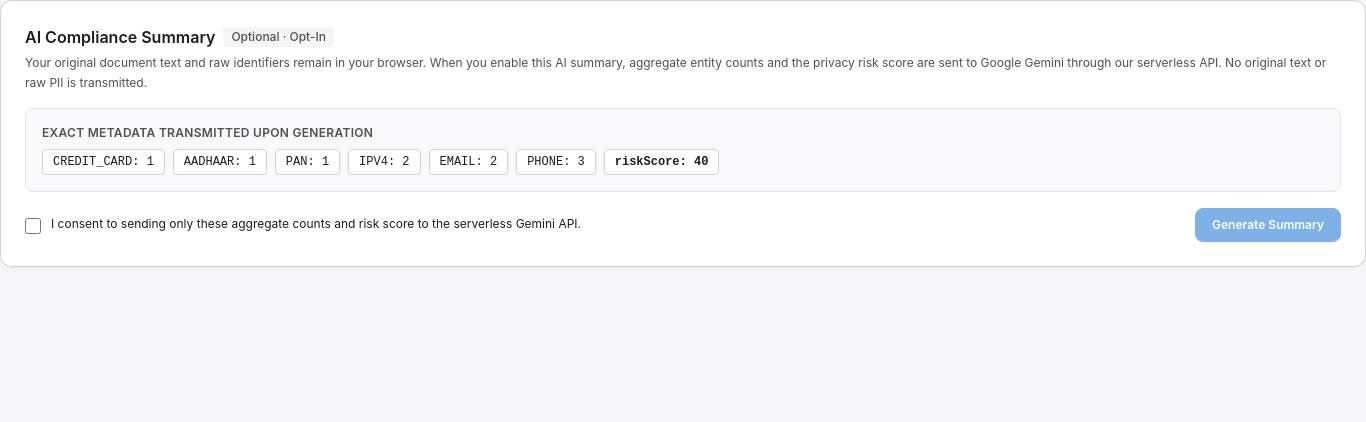
Scenario: AiComplianceSummary component › sends only aggregate metadata upon consent + click and renders summary
The width and height of the screenshot is (1366, 422).
Click the checkbox.
click(33, 226)  # box [25,218,41,234]
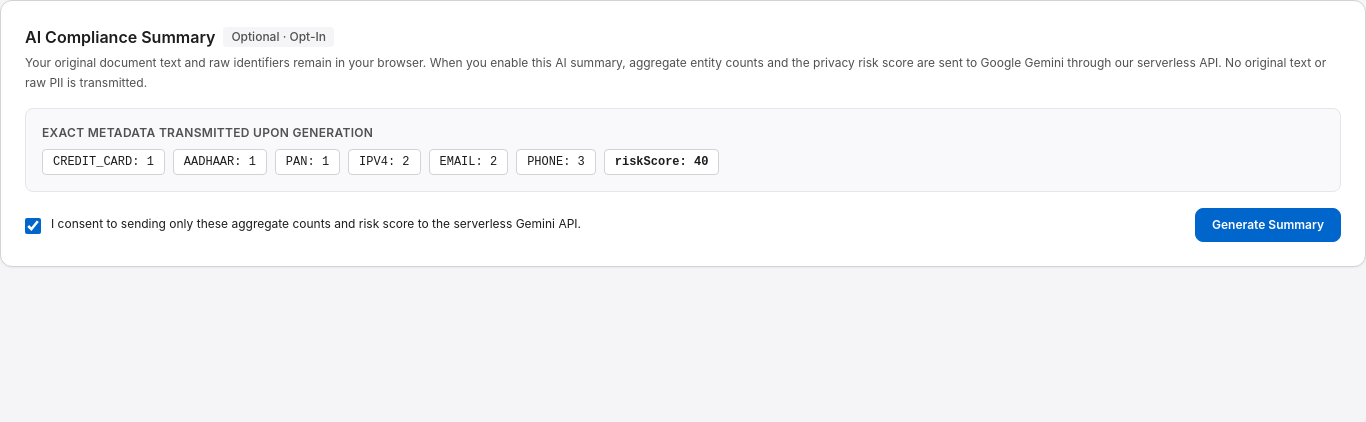
Expected: the button "Generate Summary" is enabled
Click the button "Generate Summary".
click(1268, 225)  # box [1195,208,1341,242]
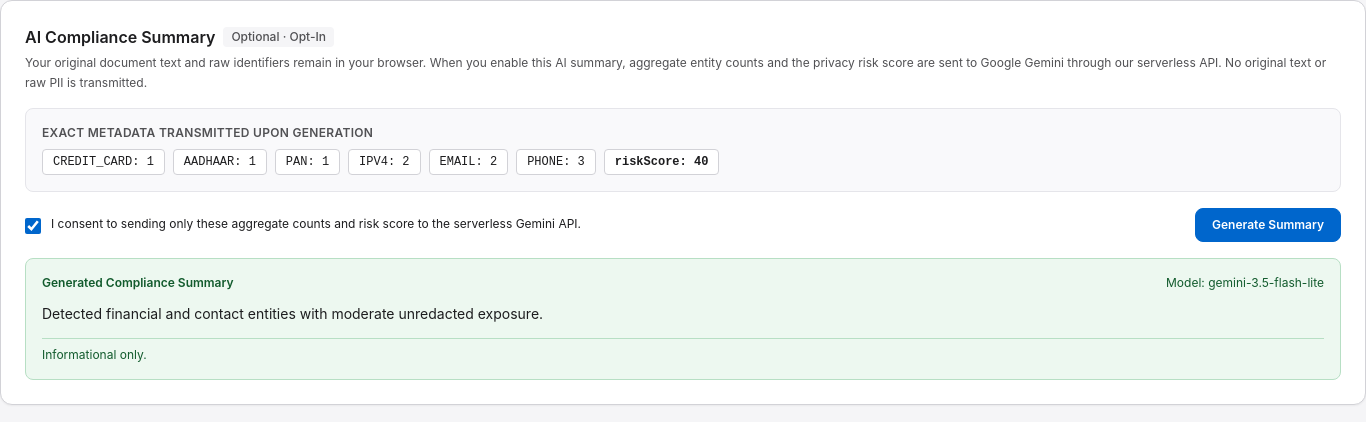
Expected: the text "Detected financial and contact entities with moderate unredacted exposure." is shown, [42,305,543,322]
